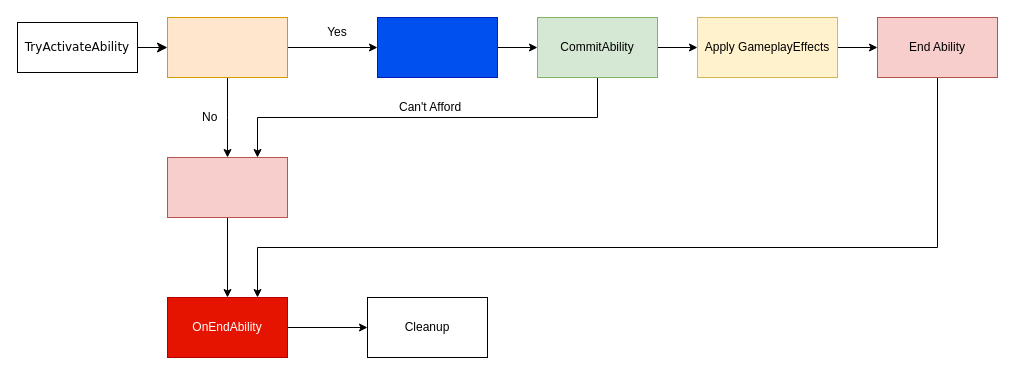
Image size: 1015x375. Some labels were removed from this diagram. The shapes that lost their labels are listed below. From the top down, each one's centre as x and y in pixels, then its label:
pixel 227 47: CanActivateAbility
pixel 437 47: ActivateAbility
pixel 227 187: EndAbility
